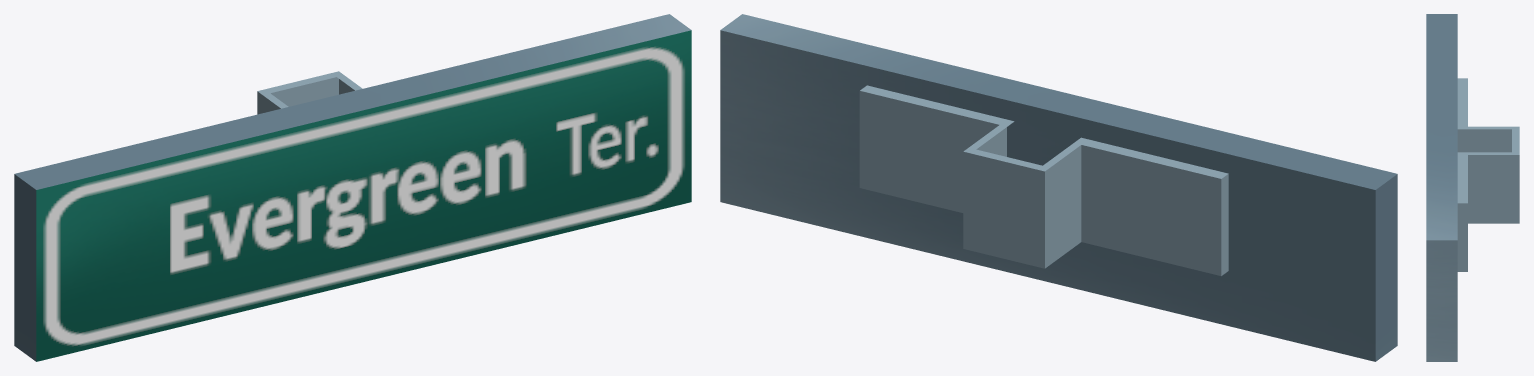
The model's file is Sign79.fbx.
3 views of the same model, side by side, from view 1: azimuth 30°, elevation 25°; view 2: azimuth 150°, elevation 25°; view 3: azimuth 270°, elevation 25° (orthographic). The views are drawn at different scales.
Visible parts, largest first — view 1: Sign79; view 2: Sign79; view 3: Sign79.
Part boxes in pixels (bbox=[...]): Sign79: bbox=[14, 14, 691, 361]; Sign79: bbox=[720, 14, 1397, 361]; Sign79: bbox=[1426, 14, 1519, 361].
Size of the model in its own units: 0.8539 by 0.1489 by 0.214.
